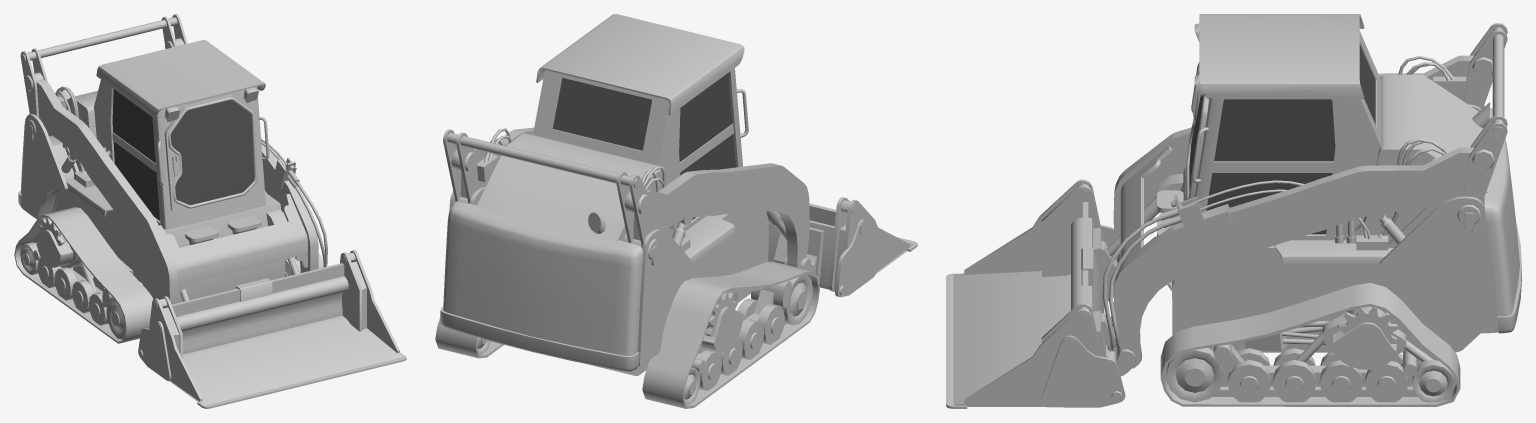
File: Caterpillar_LOD0.FBX
3 views of the same model, side by side, from view 1: azimuth 30°, elevation 25°; view 2: azimuth 150°, elevation 25°; view 3: azimuth 270°, elevation 25° (orthographic). The views are drawn at different scales.
Visible parts, largest first — view 1: Body_LOD0, Windows_LOD0, Track_LOD0; view 2: Body_LOD0, Track_LOD0, Windows_LOD0; view 3: Body_LOD0, Windows_LOD0, Track_LOD0.
Part boxes in pixels (left/top/right/bottom): Body_LOD0: left=18, top=14, right=406, bottom=408; Windows_LOD0: left=112, top=89, right=254, bottom=220; Track_LOD0: left=14, top=191, right=323, bottom=343; Body_LOD0: left=440, top=14, right=917, bottom=404; Track_LOD0: left=435, top=261, right=819, bottom=408; Windows_LOD0: left=552, top=73, right=735, bottom=219; Body_LOD0: left=946, top=14, right=1521, bottom=408; Windows_LOD0: left=1189, top=44, right=1375, bottom=234; Track_LOD0: left=1160, top=281, right=1460, bottom=406.
Bounding box in the file's own units: 3.2 × 3.26 × 5.78.
